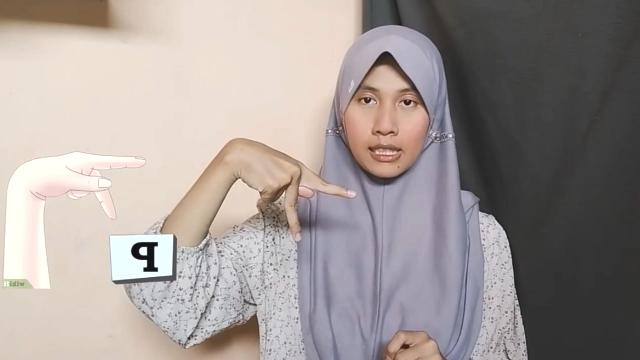P: (232, 137, 358, 245)
